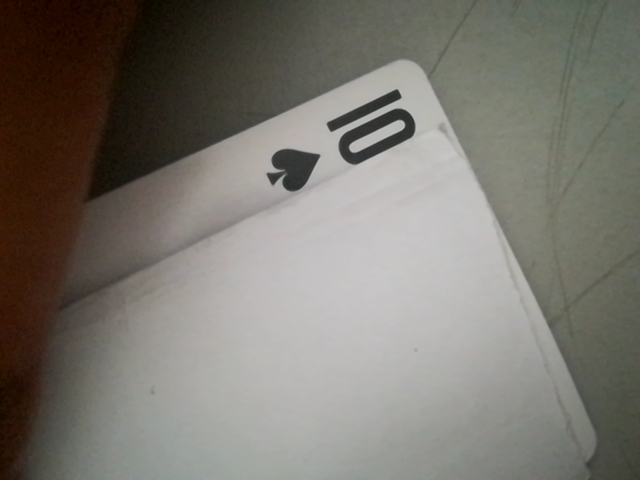ht 10: (247, 77, 435, 191)
